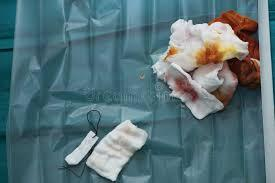cotton: (152, 19, 248, 118), (152, 19, 248, 78), (152, 62, 237, 118), (162, 19, 248, 71), (209, 10, 260, 87), (86, 120, 147, 180), (165, 63, 223, 118), (192, 62, 237, 105), (204, 22, 248, 61), (209, 10, 257, 34), (212, 62, 237, 105), (65, 131, 97, 164), (228, 57, 260, 88), (192, 63, 223, 92), (152, 61, 169, 79)
